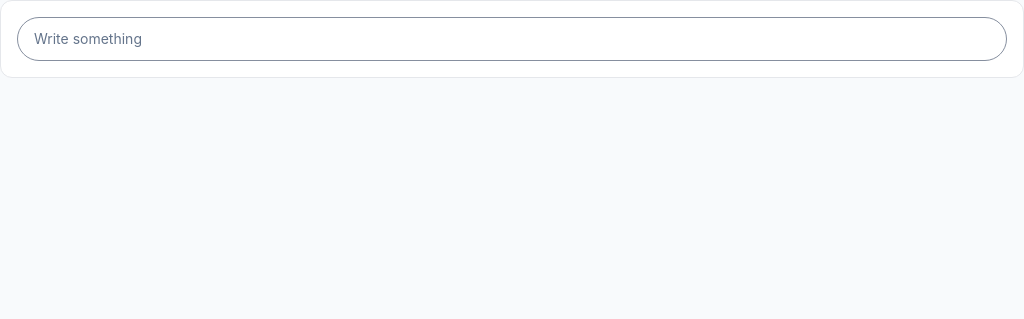
Test: PostComposer › says the network failed and keeps the text when posting throws without a message
Press Enter in the button "Write something", box [17, 17, 1007, 61]
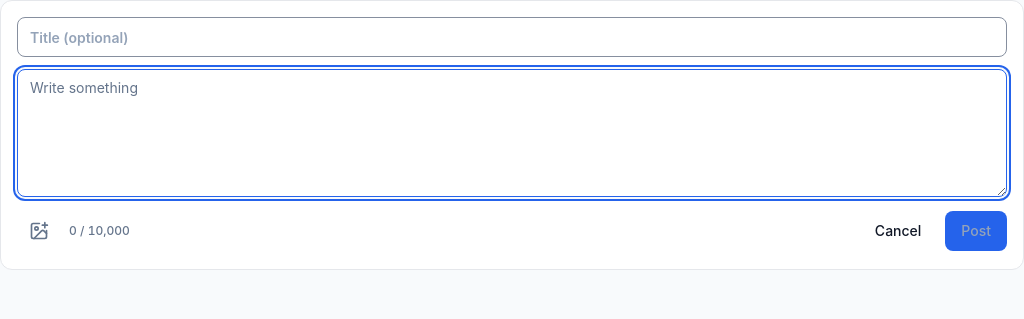
Type "Keep me" into the text box labelled "Write something" at (512, 133), box [17, 69, 1007, 197]
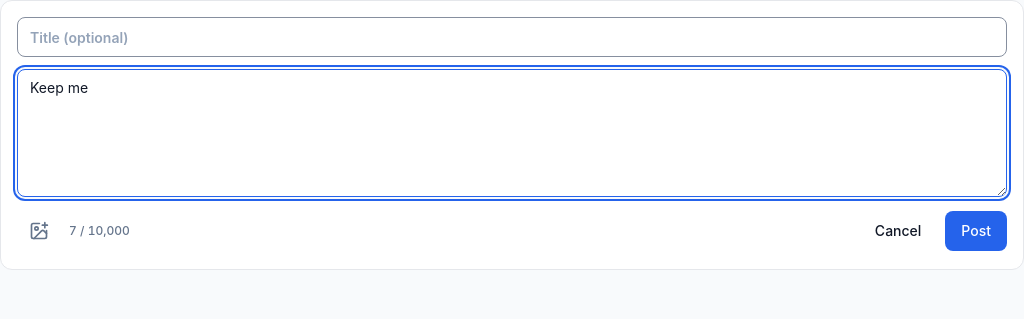
Click the button "Post" at (976, 231), box [945, 211, 1007, 251]
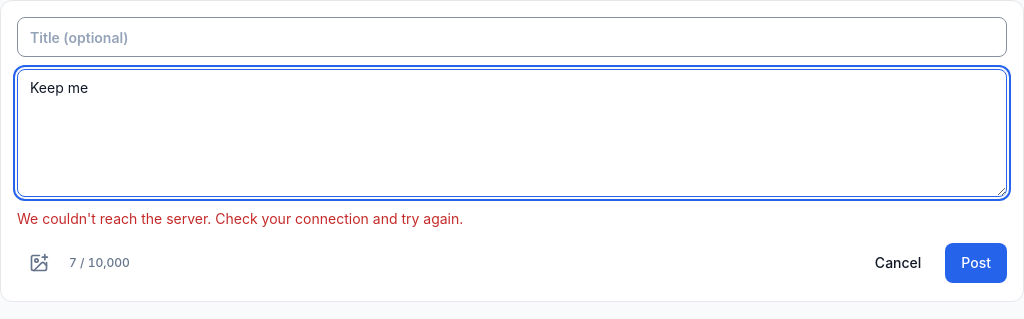
Expected: the button "Post" is enabled
Expected: the message reads "We couldn't reach the server. Check your connection and try again.", [17, 210, 463, 227]
Click the button "Post" at (976, 263), box [945, 243, 1007, 283]
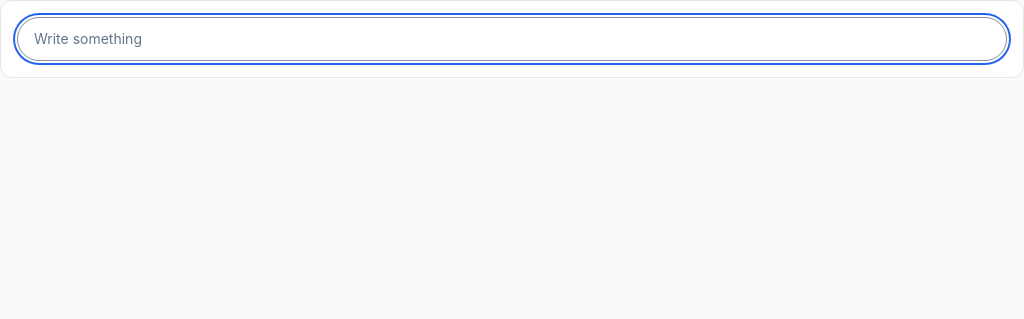
Expected: the message "We couldn't reach the server. Check your connection and try again." is gone
